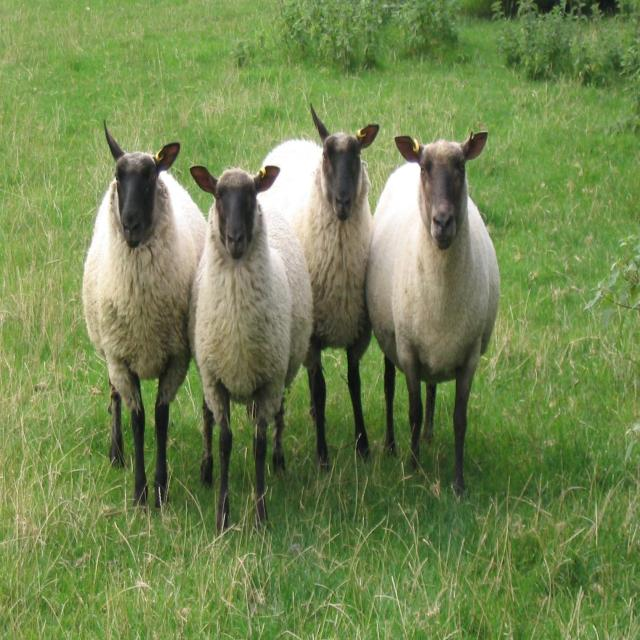Sheep: (364, 128, 501, 492), (190, 153, 316, 536), (82, 130, 206, 512), (258, 106, 376, 457)
